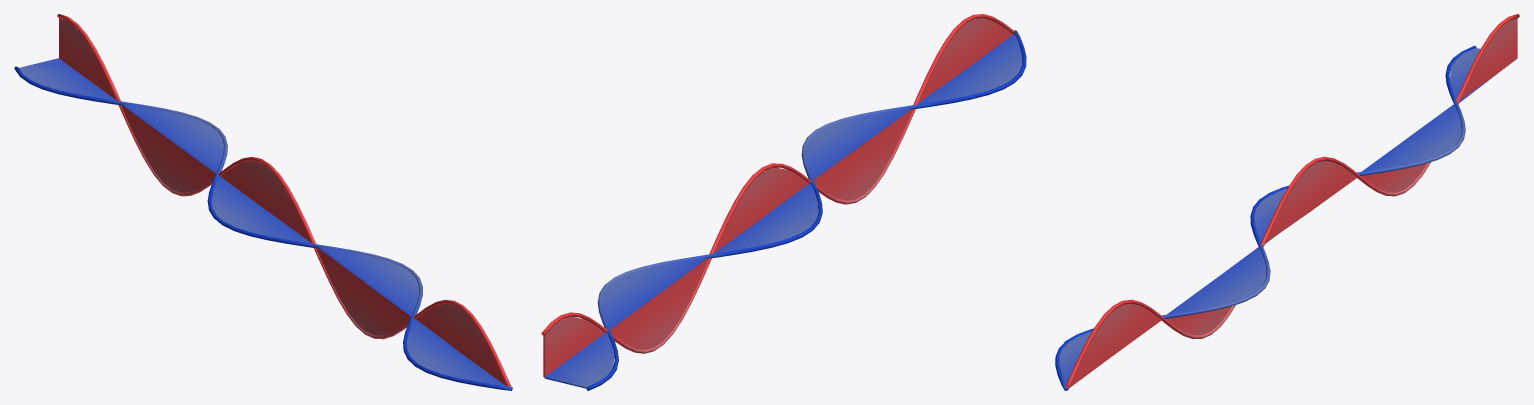
Rendered from microwaves.glb.
3 views of the same model, side by side, from view 1: azimuth 30°, elevation 25°; view 2: azimuth 150°, elevation 25°; view 3: azimuth 330°, elevation 25° (orthographic). The views are drawn at different scales.
Parts seen in each view (by area): view 1: Radio.001; view 2: Radio.001; view 3: Radio.001.
Boxes of the visible parts, x1,y1,x2,y2 form: Radio.001: (14,14,512,390); Radio.001: (541,14,1026,390); Radio.001: (1055,14,1519,390).
Bounding box in the file's own units: 0.6329 × 0.6329 × 5.2.
4 materials, 4 textured.
